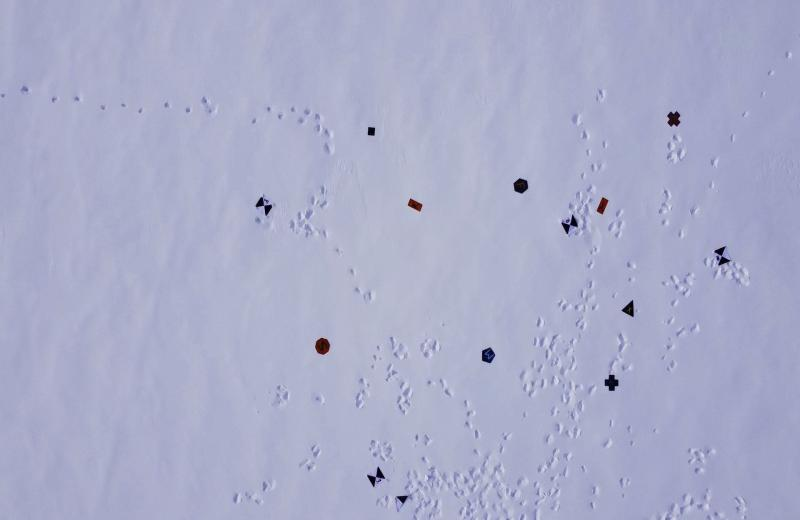Cross: (604, 374, 620, 393), (666, 110, 682, 127)
Hexagon: (513, 177, 529, 196)
Octagon: (313, 335, 330, 356)
Pentagon: (481, 347, 496, 365)
Rectangle: (595, 197, 610, 217), (407, 196, 423, 212)
Square: (367, 126, 376, 137)
Triangle: (621, 299, 637, 319)
